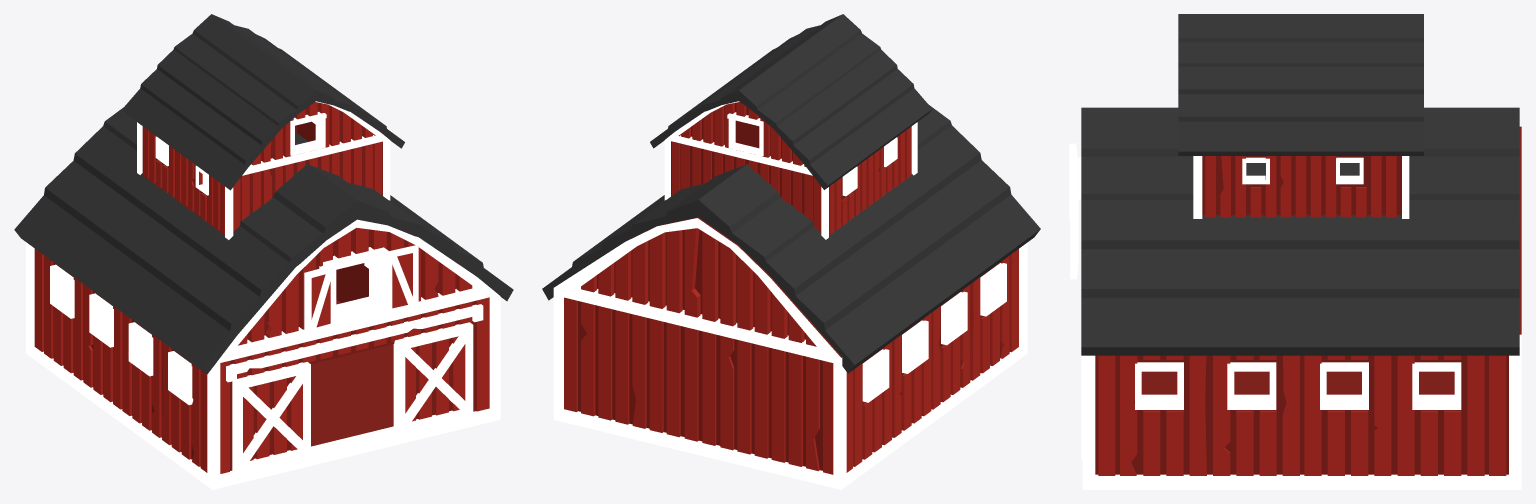
File: Farm_BigBarn.glb
3 renders of one model, left to right at view 1: azimuth 30°, elevation 25°; view 2: azimuth 150°, elevation 25°; view 3: azimuth 270°, elevation 25°, orthographic. The views are drawn at different scales.
Parts seen in each view (by area): view 1: BigBarn, BigBarn_Door, BigBarn_Door2, BigBarn_Window, BigBarn_Window2; view 2: BigBarn; view 3: BigBarn, BigBarn_Window, BigBarn_Window2.
Boxes of the visible parts, bbox=[...] form: BigBarn: bbox=[14, 14, 513, 489]; BigBarn_Door: bbox=[393, 322, 473, 433]; BigBarn_Door2: bbox=[232, 362, 310, 473]; BigBarn_Window: bbox=[385, 245, 418, 314]; BigBarn_Window2: bbox=[304, 265, 336, 335]; BigBarn: bbox=[542, 14, 1040, 489]; BigBarn: bbox=[1078, 14, 1521, 489]; BigBarn_Window: bbox=[1070, 190, 1078, 279]; BigBarn_Window2: bbox=[1069, 143, 1078, 221].
Size of the model in its own units: 773 by 789 by 822.
